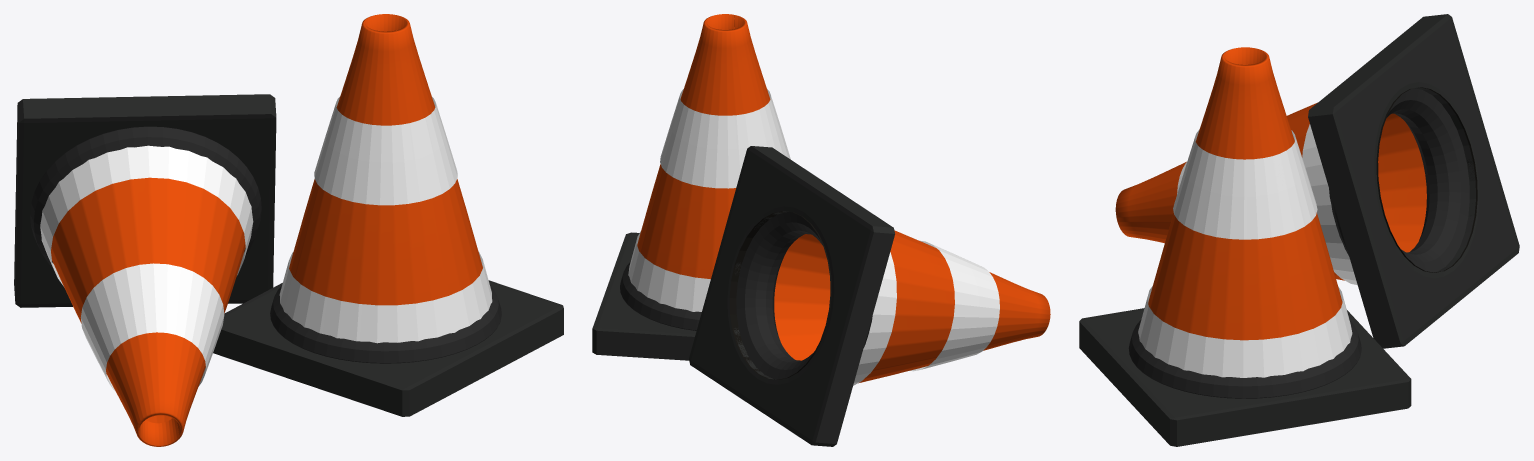
The model's file is trafficcone2.glb.
The picture shows the model from 3 angles, left to right: view 1: azimuth 30°, elevation 25°; view 2: azimuth 150°, elevation 25°; view 3: azimuth 270°, elevation 25°; orthographic projection. The views are drawn at different scales.
Parts seen in each view (by area): view 1: Cone, Cone.001, Cube.001, Cone.002, Cone.003, Cube, Torus.001, Torus; view 2: Cube.001, Cone.001, Cone, Cone.002, Cone.003, Torus.001, Cube, Torus, Cylinder.001; view 3: Cube.001, Cone, Cone.002, Cube, Cone.001, Torus.001, Torus, Cone.003, Cylinder.001.
Boxes of the visible parts, x1,y1,x2,y2 form: Cone: [289, 14, 482, 305]; Cone.001: [51, 177, 245, 446]; Cube.001: [14, 94, 276, 307]; Cone.002: [279, 97, 492, 343]; Cone.003: [40, 145, 253, 391]; Cube: [213, 280, 563, 416]; Torus.001: [30, 126, 261, 268]; Torus: [270, 285, 501, 363]; Cube.001: [689, 146, 894, 446]; Cone.001: [774, 230, 1050, 383]; Cone: [637, 14, 770, 279]; Cone.002: [628, 89, 790, 311]; Cone.003: [853, 240, 999, 385]; Torus.001: [736, 212, 872, 379]; Cube: [592, 232, 696, 360]; Torus: [620, 261, 701, 330]; Cylinder.001: [729, 211, 831, 379]; Cube.001: [1308, 14, 1519, 348]; Cone: [1148, 47, 1342, 340]; Cone.002: [1138, 129, 1352, 377]; Cube: [1079, 308, 1411, 446]; Cone.001: [1115, 102, 1426, 280]; Torus.001: [1329, 88, 1469, 272]; Torus: [1128, 319, 1361, 398]; Cone.003: [1177, 124, 1357, 284]; Cylinder.001: [1376, 87, 1477, 272].
Size of the model in its own units: 1.32 by 0.9097 by 1.13.
